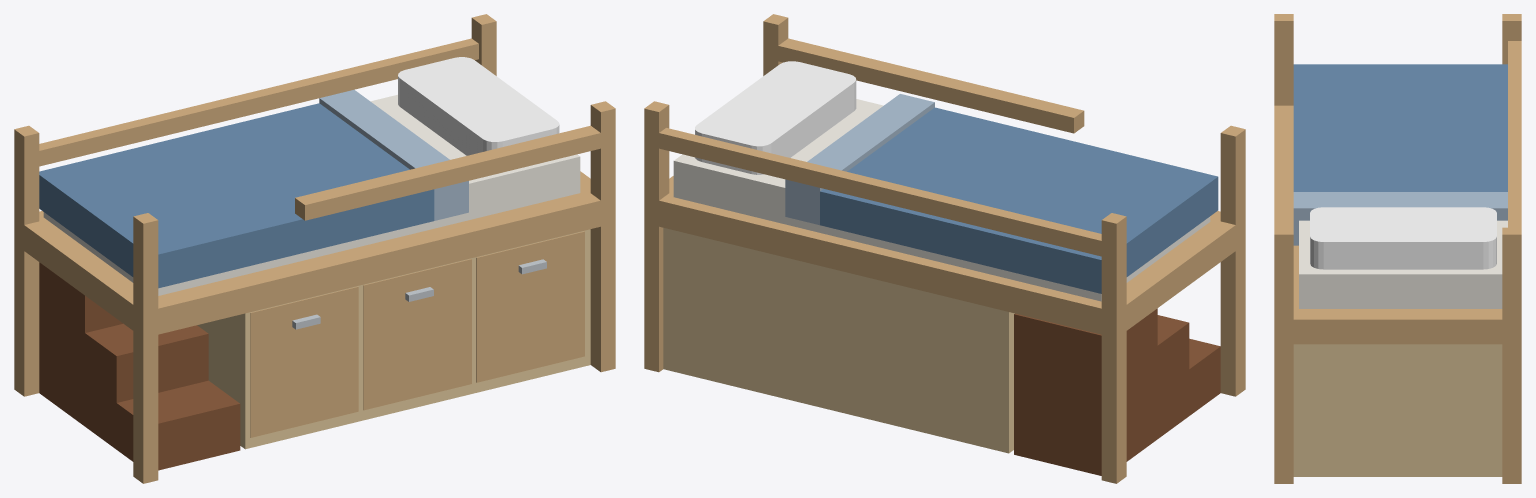
File: high_bed.glb
3 views of the same model, side by side, from view 1: azimuth 30°, elevation 25°; view 2: azimuth 150°, elevation 25°; view 3: azimuth 270°, elevation 25° (orthographic). The views are drawn at different scales.
Parts seen in each view (by area): view 1: high_bed_Body; view 2: high_bed_Body; view 3: high_bed_Body.
Part boxes in pixels (x1,y1,x2,y2): high_bed_Body: (14, 14, 615, 483); high_bed_Body: (644, 14, 1245, 483); high_bed_Body: (1274, 14, 1521, 483).
Size of the model in its own units: 1.9 by 1 by 0.9.
